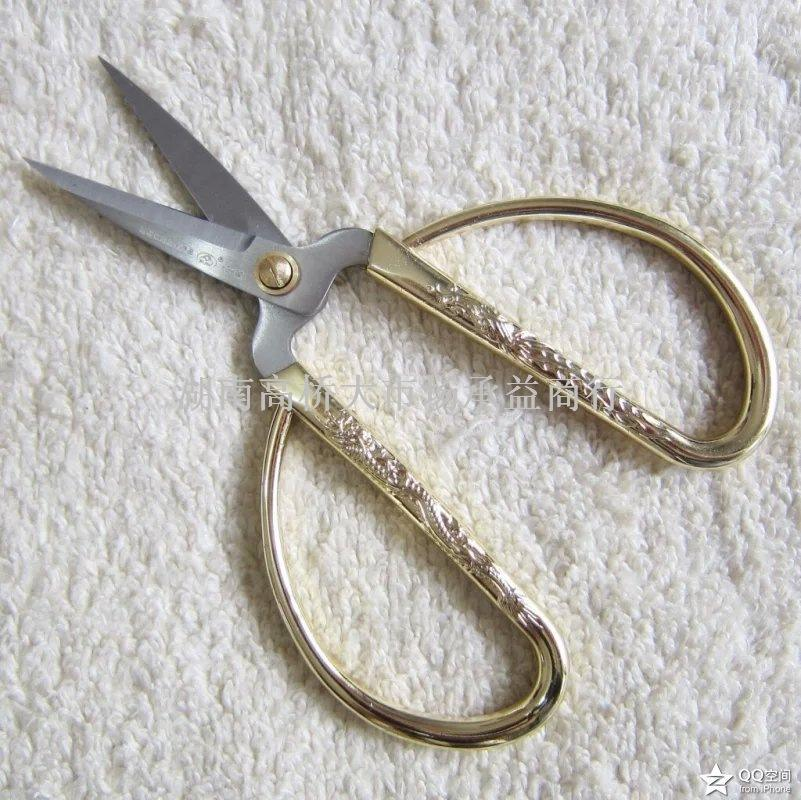scissor: (22, 55, 772, 751)
